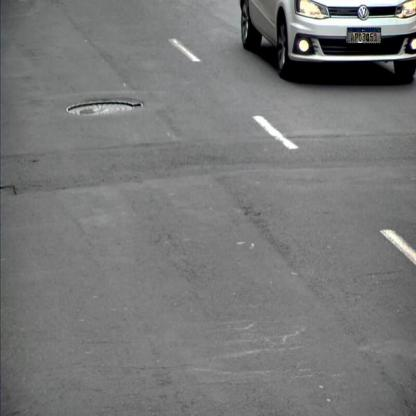PlacaM: (348, 28, 382, 44)
